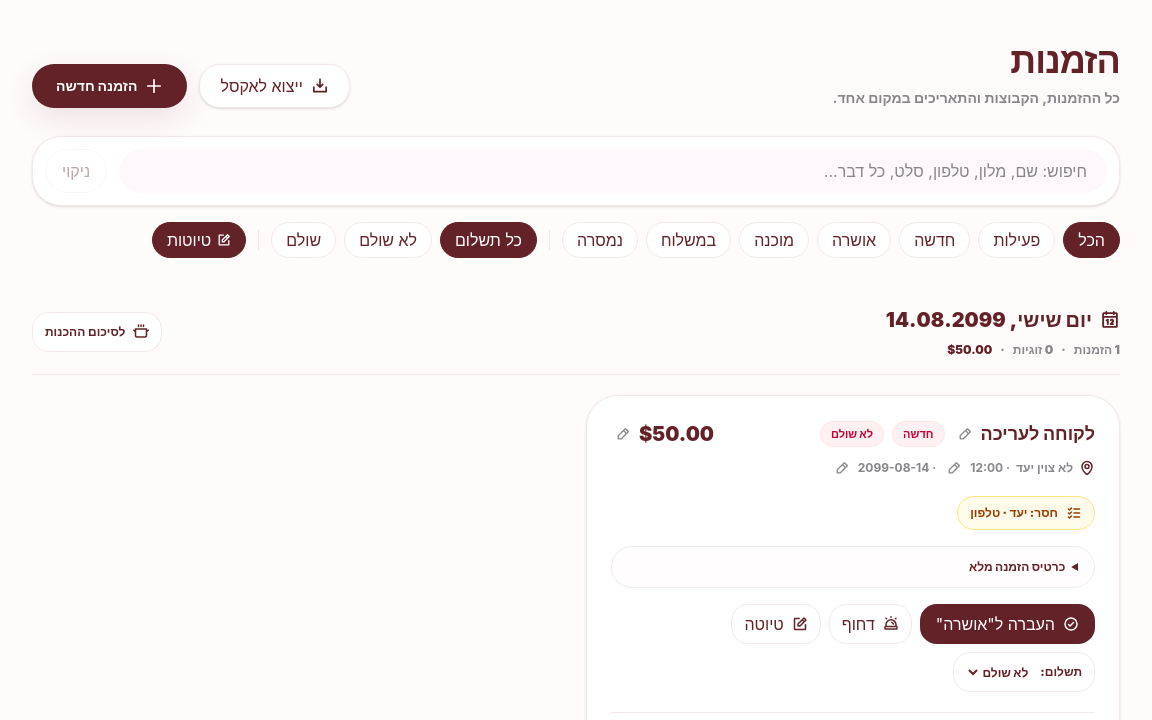
OrdersScreen › commits a time edit through the versioned save and leaves protected fields untouched
This screenshot has width=1152, height=720.
Click the button named "עריכת שעה — לקוחה לעריכה": (954, 468) [942,456,966,480]
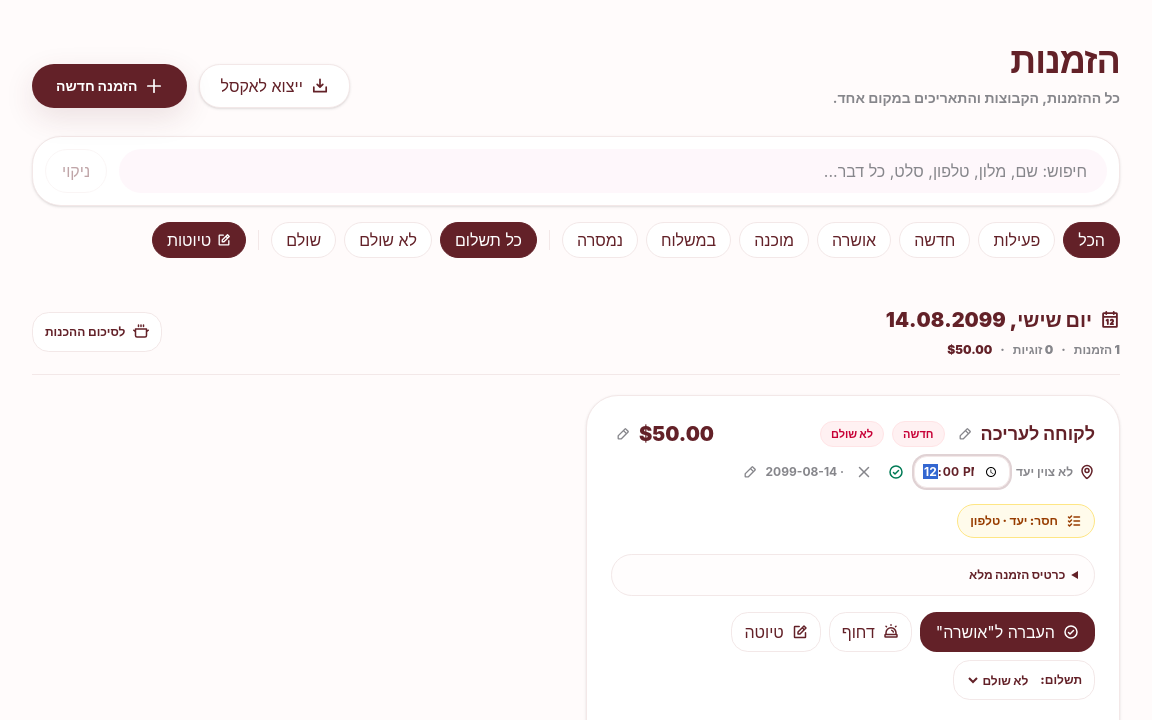
Replace the text in the time field named "שעה — לקוחה לעריכה" with "13:45": (962, 472) [914,456,1010,488]
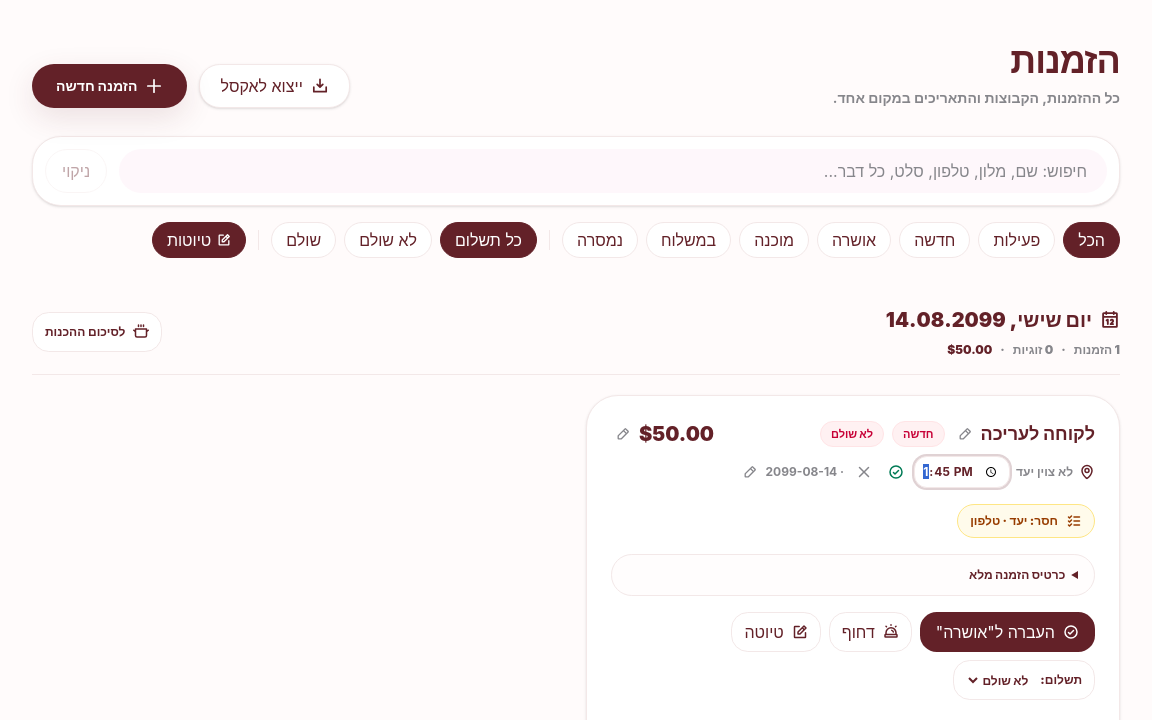
Press Enter in the time field named "שעה — לקוחה לעריכה", box [914,456,1010,488]
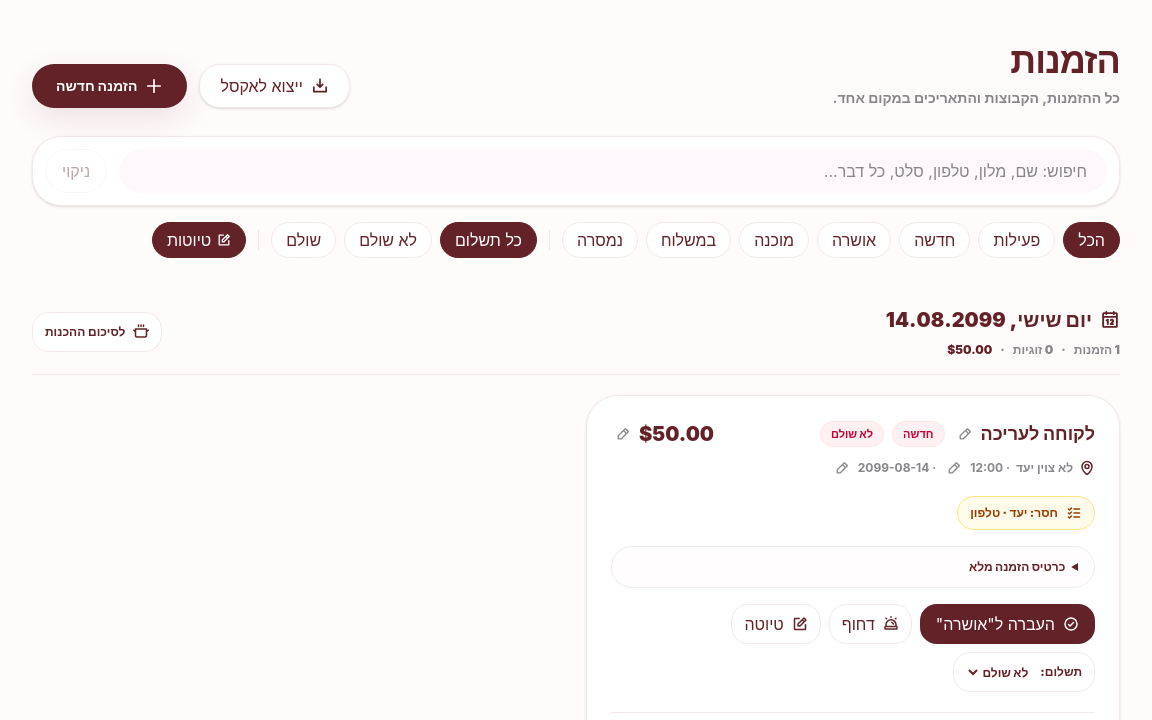
Check: the text "· 12:00" is shown, box [970,460,1010,476]
